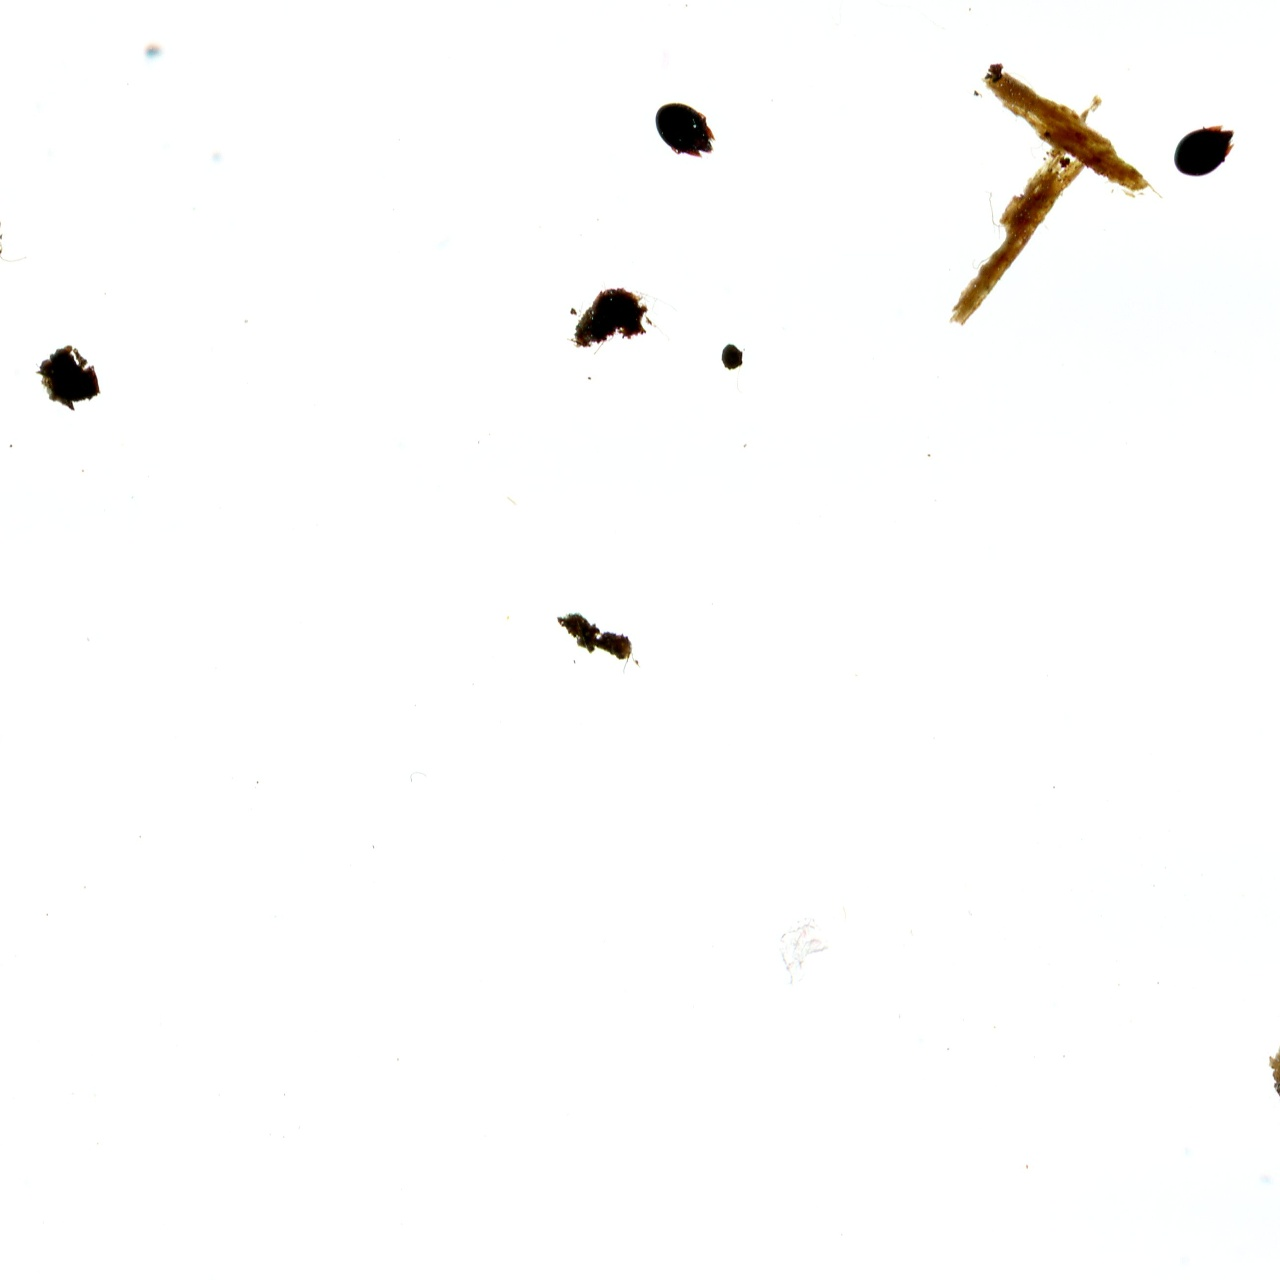arthropod: (652, 98, 719, 162), (1171, 122, 1239, 181)
